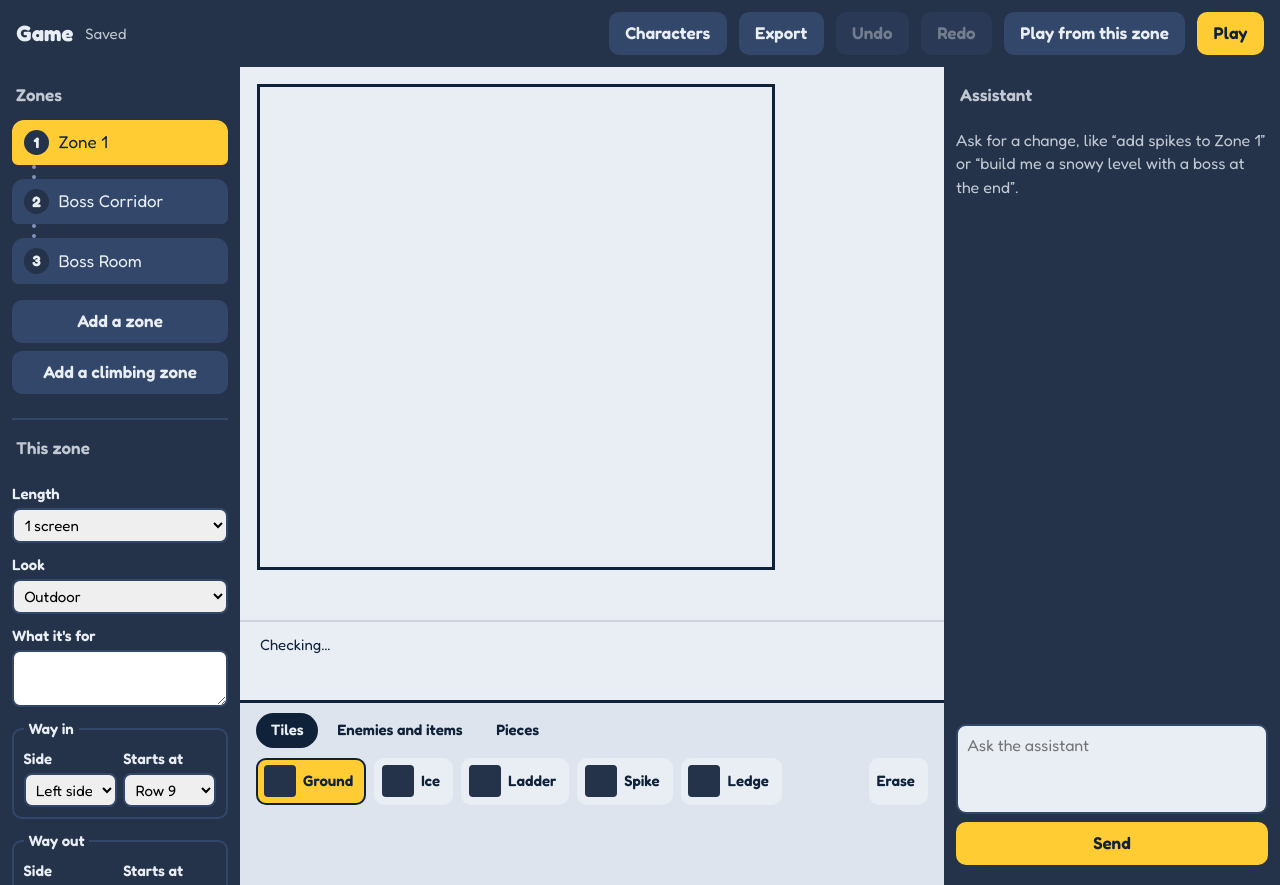
Test: Editor › plays and stops with the button or Escape
This screenshot has width=1280, height=885.
Step 1. Click the button "Play" → (1231, 34), box [1197,12,1264,55]
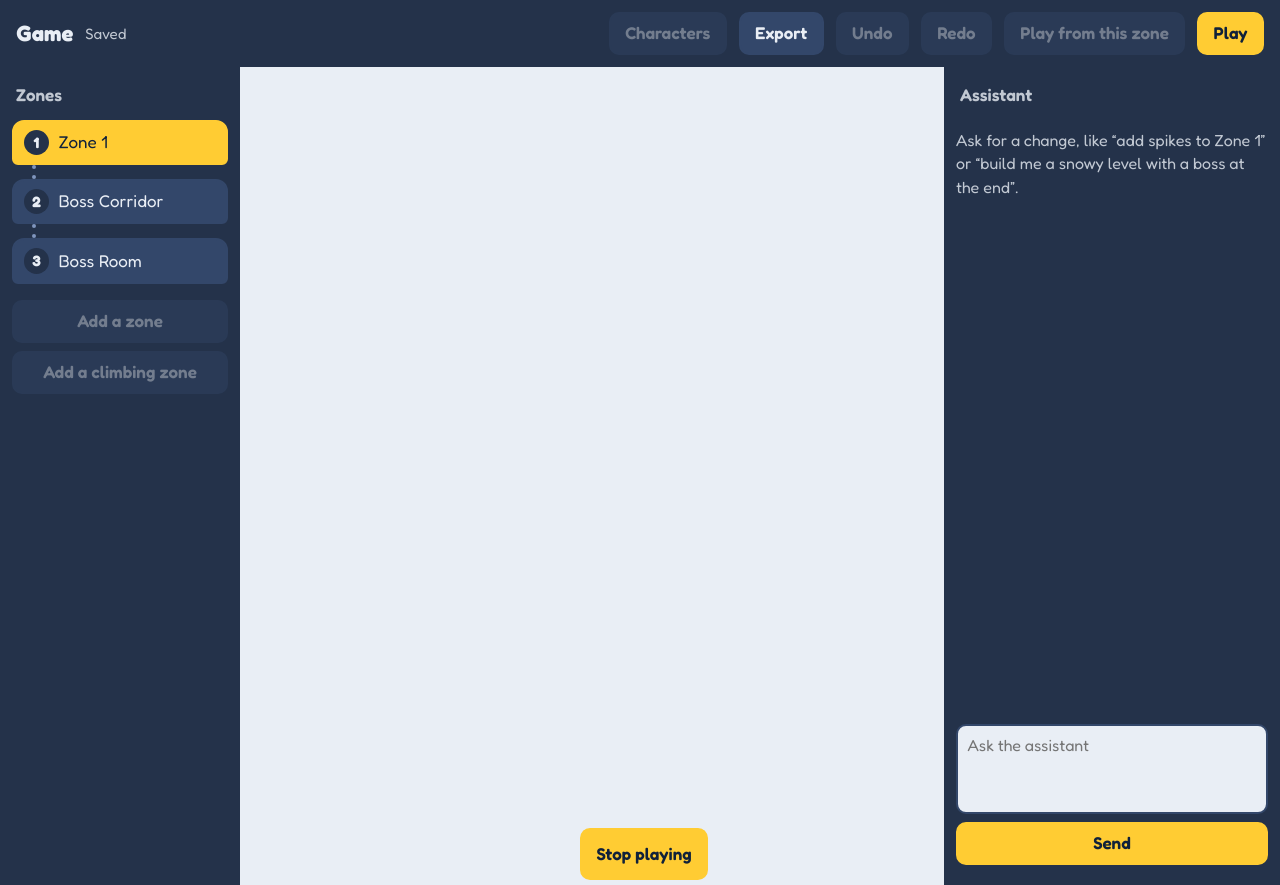
Check: the button "Stop playing" is shown, box [580,828,708,880]
Check: the picture with test id "zone-canvas" is gone
Step 2. Press Escape
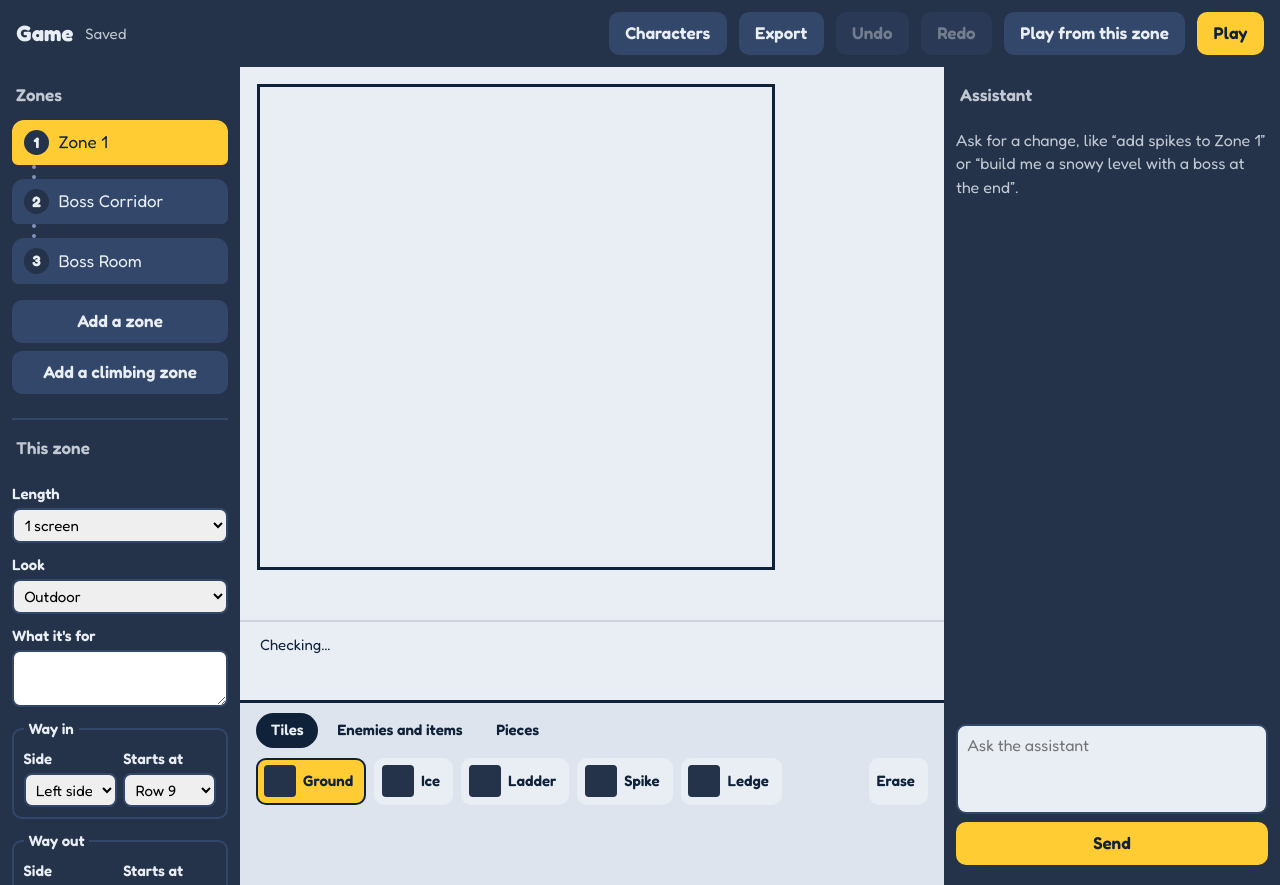
Check: the picture with test id "zone-canvas" is shown, box [260,87,772,567]
Step 3. Click the button "Play from this zone" → (1095, 34), box [1004,12,1185,55]
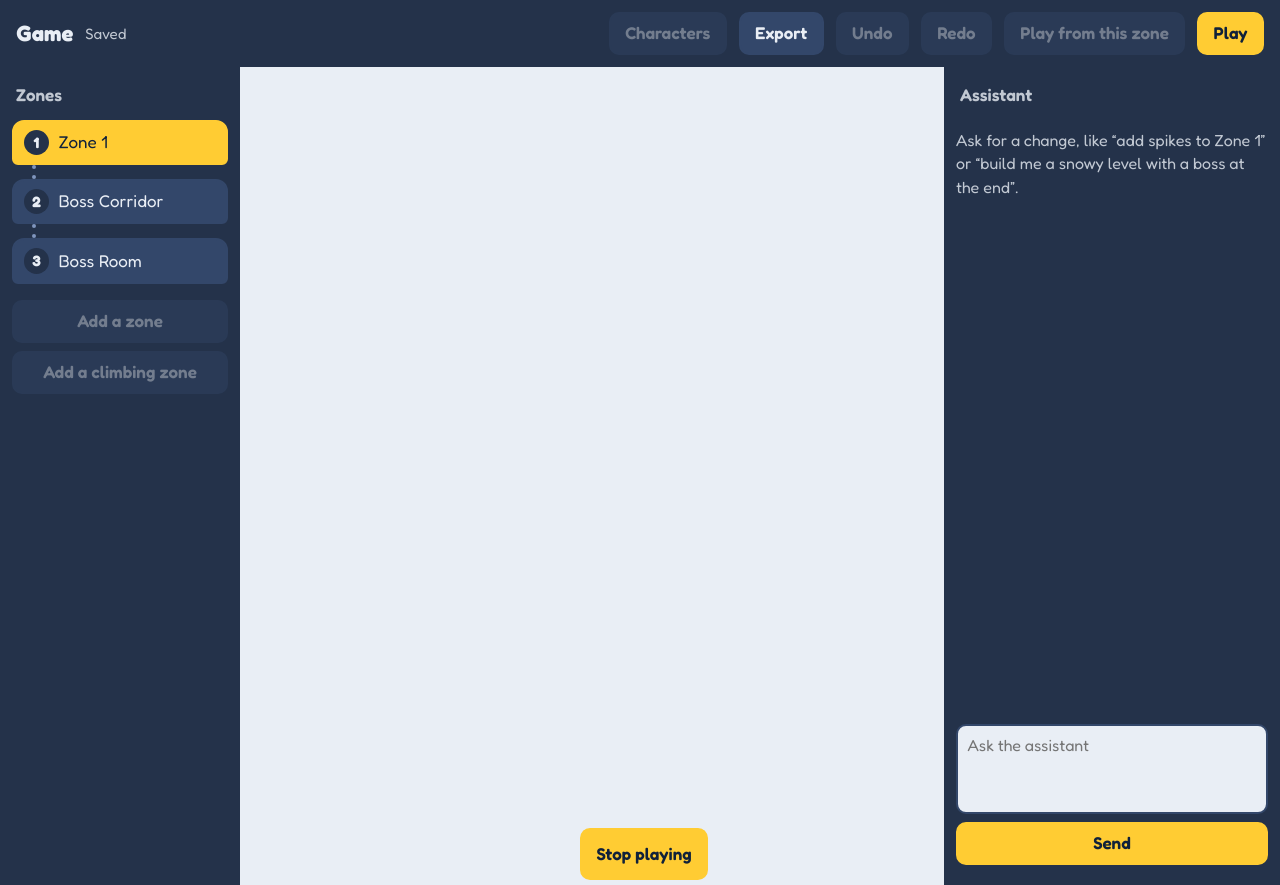
Step 4. Click the button "Stop playing" → (644, 854), box [580,828,708,880]
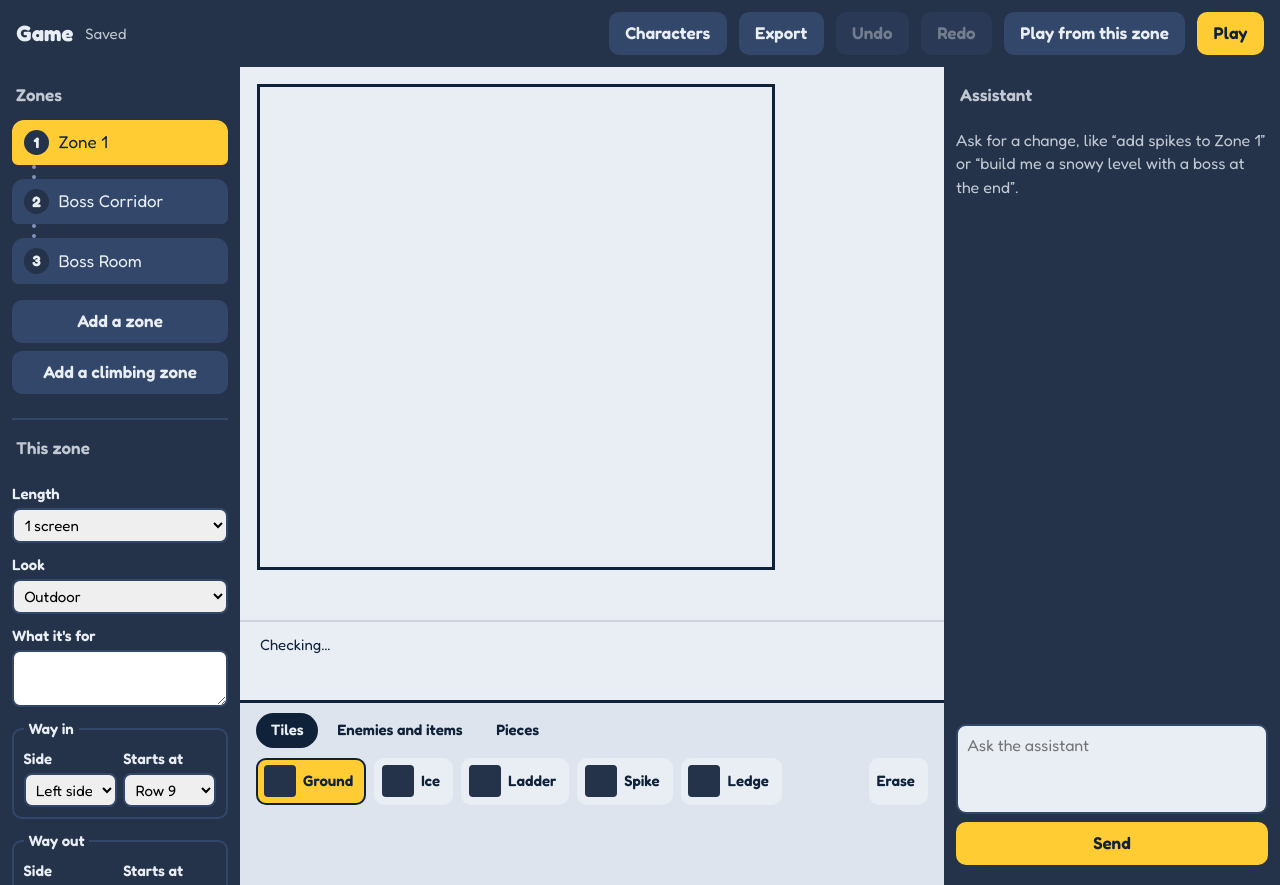
Check: the picture with test id "zone-canvas" is shown, box [260,87,772,567]
